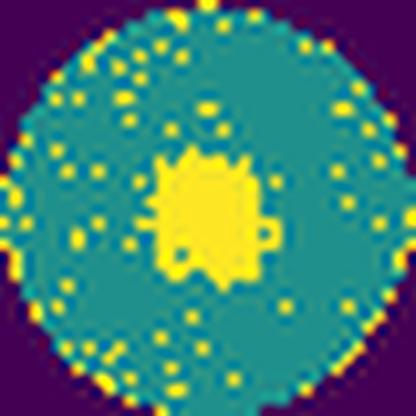Center: (134, 143, 286, 296)
